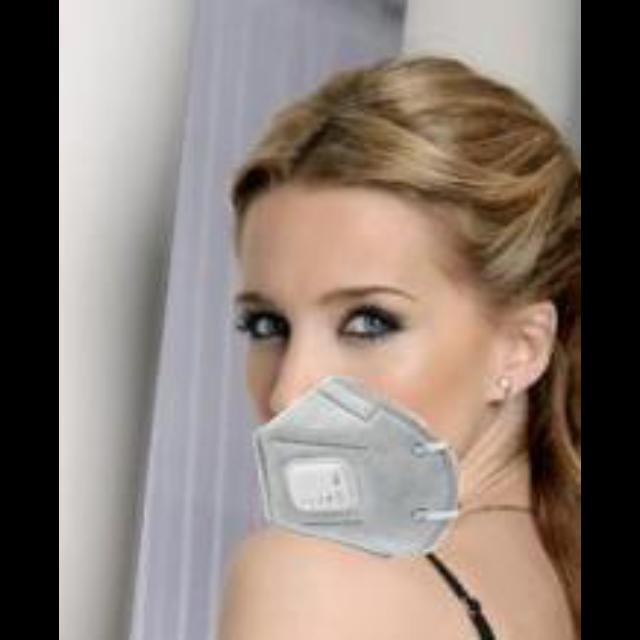suspicion: (158, 73, 576, 557)
